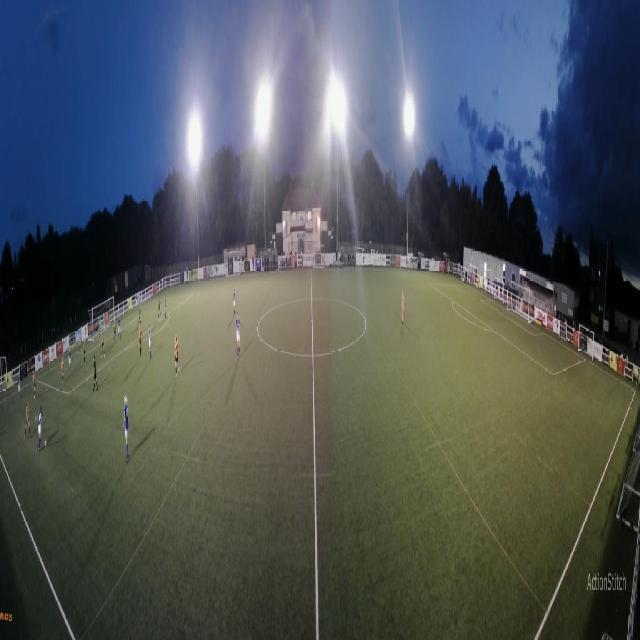ball: (44, 440, 47, 448)
player: (36, 405, 45, 451), (123, 395, 129, 463), (24, 401, 32, 439), (174, 333, 180, 379), (236, 312, 241, 361), (92, 356, 98, 393), (148, 324, 152, 360), (401, 289, 405, 324), (138, 324, 142, 358), (33, 370, 37, 400), (61, 355, 65, 385), (101, 329, 105, 359), (68, 348, 72, 376), (158, 296, 162, 322), (18, 373, 22, 398), (117, 316, 121, 341), (233, 288, 236, 319), (138, 305, 142, 327), (83, 339, 86, 366), (114, 319, 117, 343), (99, 316, 102, 337), (164, 295, 166, 319)
